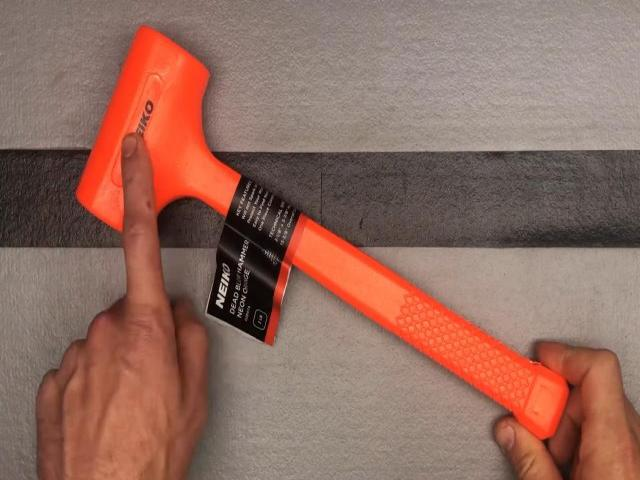hammer: (76, 25, 569, 440)
